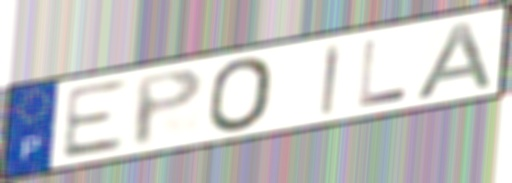A: (411, 18, 498, 103)
E: (58, 76, 130, 162)
I: (318, 40, 345, 118)
L: (356, 36, 412, 109)
O: (206, 55, 277, 135)
P: (132, 65, 208, 150)
